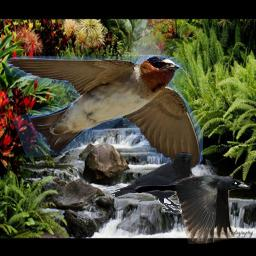Crow: (134, 174, 251, 244), (110, 152, 194, 214)
Swallow: (5, 56, 203, 170)
